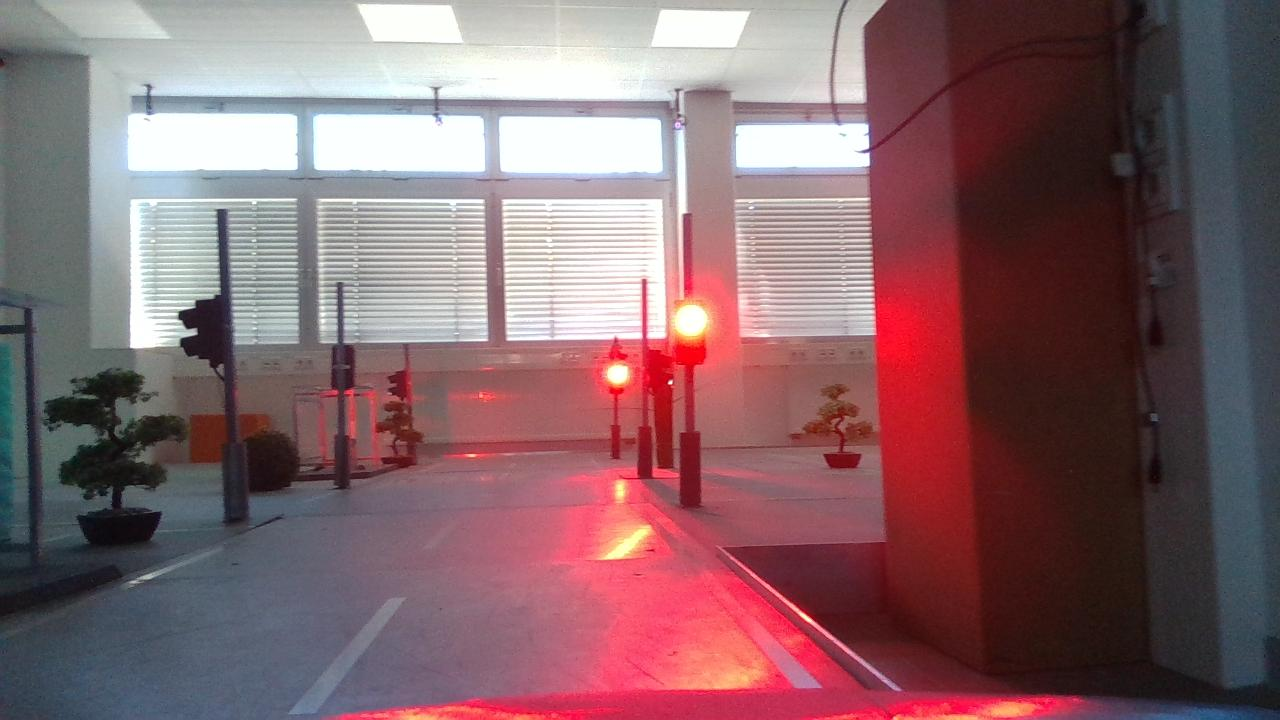traffic_light_red: (663, 293, 724, 374)
